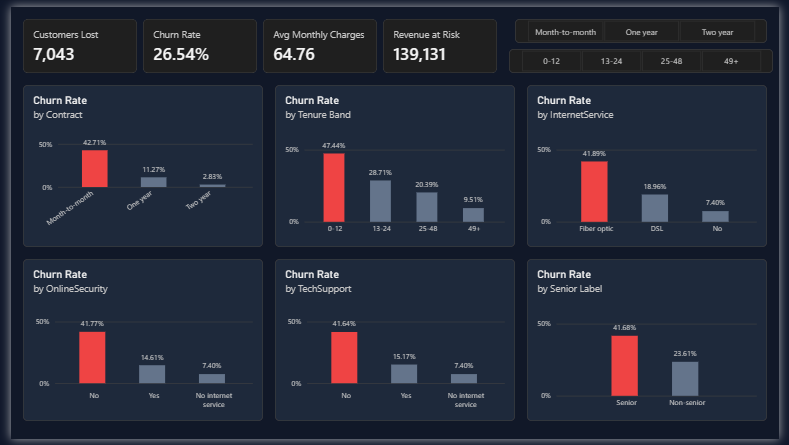

What the dashboard file says about the page in this screenshot:
{"tool":"powerbi","page":{"name":"Page 1","canvas":[1280,720],"ordinal":0},"visuals":[{"type":"clusteredColumnChart","fields":{"Category":["churn_view.Tenure Band"],"Y":["churn_view.Churn Rate"]},"box":[440,130,400,270],"z":0},{"type":"slicer","fields":{"Values":["churn_view.Contract"]},"box":[840,20,420,40],"z":1000},{"type":"slicer","fields":{"Values":["churn_view.Tenure Band"]},"box":[830,70,440,40],"z":2000},{"type":"clusteredColumnChart","fields":{"Category":["churn_view.Contract"],"Y":["churn_view.Churn Rate"]},"box":[20,130,400,270],"z":3000},{"type":"clusteredColumnChart","fields":{"Category":["churn_view.TechSupport"],"Y":["churn_view.Churn Rate"]},"box":[440,420,400,270],"z":4000},{"type":"clusteredColumnChart","fields":{"Category":["churn_view.OnlineSecurity"],"Y":["churn_view.Churn Rate"]},"box":[20,420,400,270],"z":5000},{"type":"clusteredColumnChart","fields":{"Y":["churn_view.Churn Rate"],"Category":["churn_view.InternetService"]},"box":[860,130,400,270],"z":6000},{"type":"clusteredColumnChart","fields":{"Y":["churn_view.Churn Rate"],"Category":["churn_view.Senior Label"]},"box":[860,420,400,270],"z":7000},{"type":"cardVisual","fields":{"Data":["churn_view.Customers Text"]},"box":[20,20,190,90],"z":8000},{"type":"cardVisual","fields":{"Data":["churn_view.Avg Monthly Charges"]},"box":[420,20,190,90],"z":9000},{"type":"cardVisual","fields":{"Data":["churn_view.Revenue at Risk Text"]},"box":[620,20,190,90],"z":10000},{"type":"cardVisual","fields":{"Data":["churn_view.Churn Rate"]},"box":[220,20,190,90],"z":11000}]}

Visuals, with their boxes in screenshot pixels (x1, y1, x2, y2), scaled from the page's 1280x720 canvas onto the 789x445 screenshot:
clusteredColumnChart - churn_view.Tenure Band x churn_view.Churn Rate: <bbox>271, 80, 518, 247</bbox>
slicer - churn_view.Contract: <bbox>518, 12, 777, 37</bbox>
slicer - churn_view.Tenure Band: <bbox>512, 43, 783, 68</bbox>
clusteredColumnChart - churn_view.Contract x churn_view.Churn Rate: <bbox>12, 80, 259, 247</bbox>
clusteredColumnChart - churn_view.TechSupport x churn_view.Churn Rate: <bbox>271, 260, 518, 426</bbox>
clusteredColumnChart - churn_view.OnlineSecurity x churn_view.Churn Rate: <bbox>12, 260, 259, 426</bbox>
clusteredColumnChart - churn_view.Churn Rate x churn_view.InternetService: <bbox>530, 80, 777, 247</bbox>
clusteredColumnChart - churn_view.Churn Rate x churn_view.Senior Label: <bbox>530, 260, 777, 426</bbox>
cardVisual - churn_view.Customers Text: <bbox>12, 12, 129, 68</bbox>
cardVisual - churn_view.Avg Monthly Charges: <bbox>259, 12, 376, 68</bbox>
cardVisual - churn_view.Revenue at Risk Text: <bbox>382, 12, 499, 68</bbox>
cardVisual - churn_view.Churn Rate: <bbox>136, 12, 253, 68</bbox>
